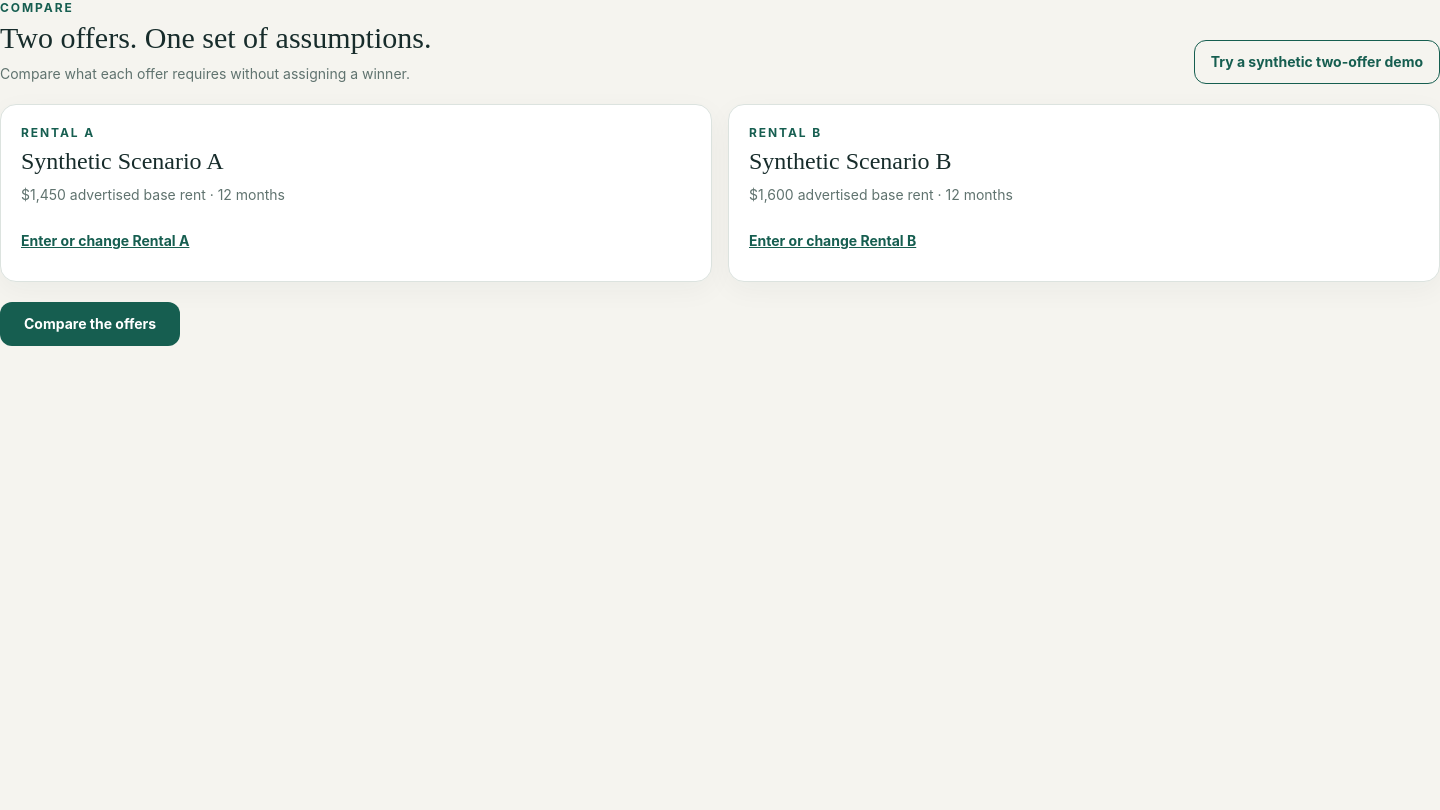
Test: financial results, stress, and comparison › shows deterministic tradeoffs first and requests AI prioritization only after an explicit action
Click the button "Compare the offers". click: (90, 324)
box: [0,302,180,346]
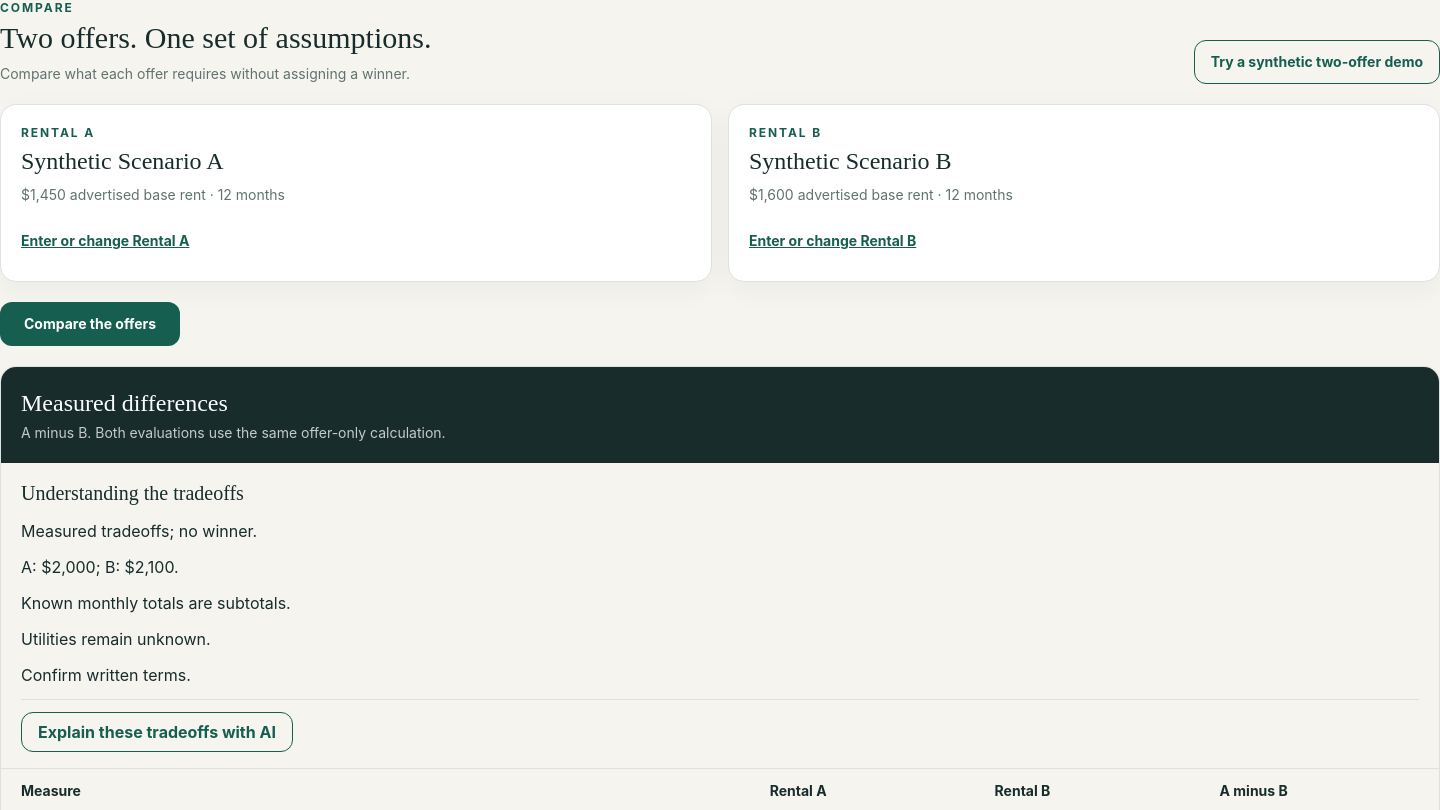
Check: the text "Measured tradeoffs; no winner." is shown, box [21,521,257,541]
Click the button "Explain these tradeoffs with AI". click: (157, 732)
box: [21,712,293,752]
(page scrolled)
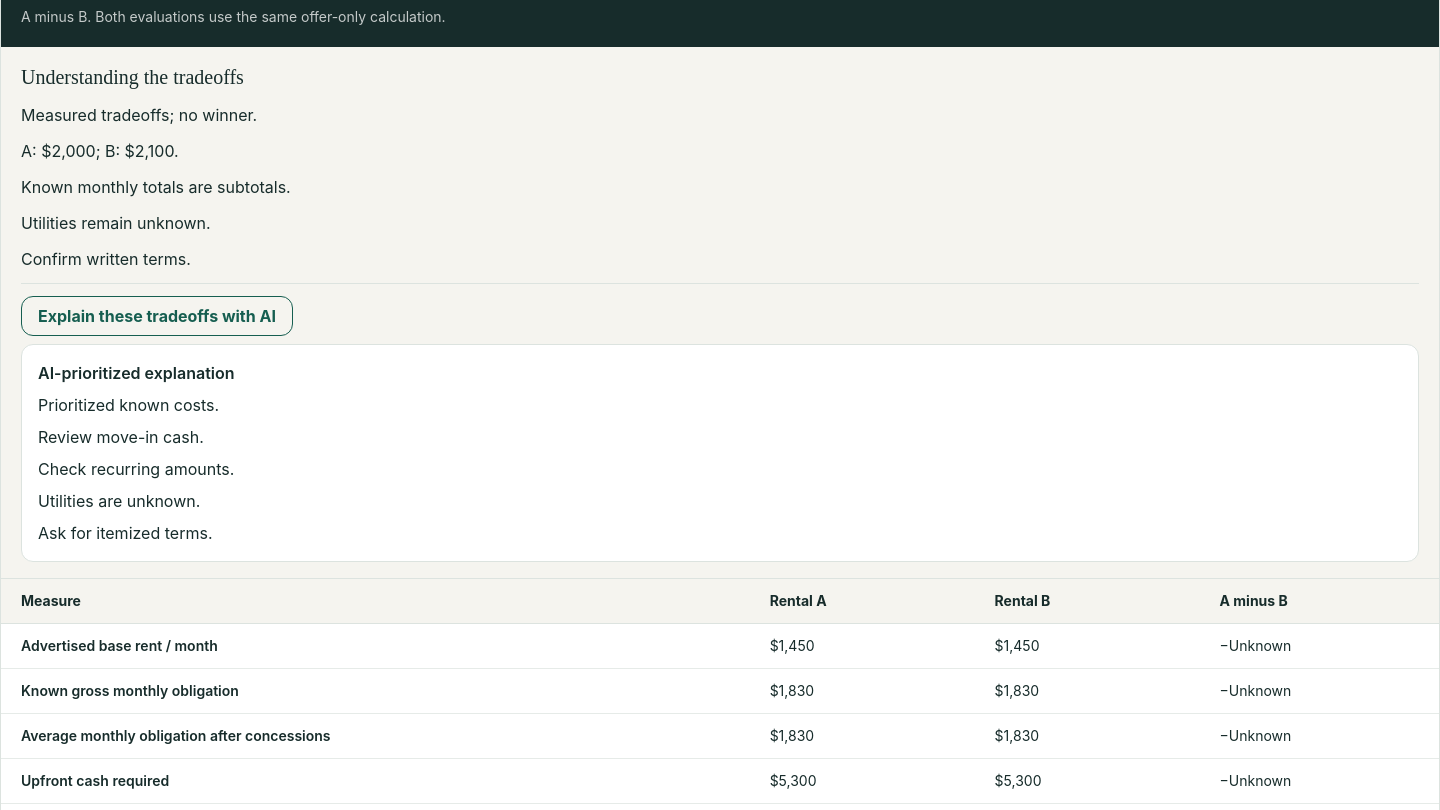
Check: the text "Prioritized known costs." is shown, box [38,395,219,415]
